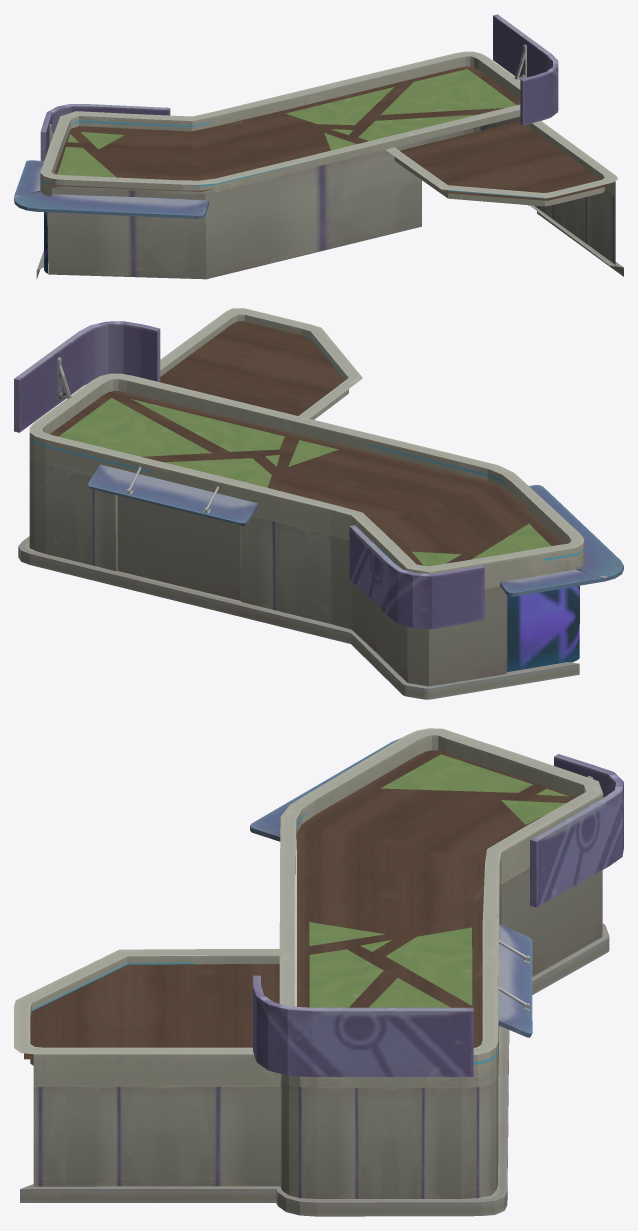
Rendered from pref_sm_city_shop11_snow_lv3.fbx.
The picture shows the model from 3 angles, top to bottom: view 1: azimuth 30°, elevation 25°; view 2: azimuth 150°, elevation 25°; view 3: azimuth 270°, elevation 25°; orthographic projection. The views are drawn at different scales.
Visible parts, largest first — view 1: pref_sm_city_shop11_snow_lv3; view 2: pref_sm_city_shop11_snow_lv3; view 3: pref_sm_city_shop11_snow_lv3.
Part boxes in pixels (x1,y1,x2,y2): pref_sm_city_shop11_snow_lv3: (14, 14, 623, 279); pref_sm_city_shop11_snow_lv3: (14, 308, 623, 699); pref_sm_city_shop11_snow_lv3: (14, 728, 623, 1216).
Bounding box in the file's own units: 24.55 × 6.77 × 17.68.
